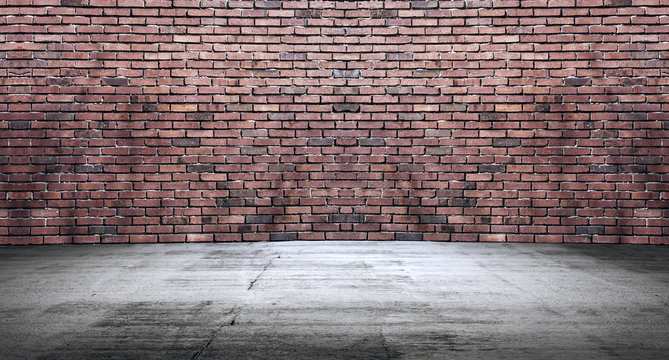Wall: (294, 7, 553, 240), (30, 4, 228, 242)
